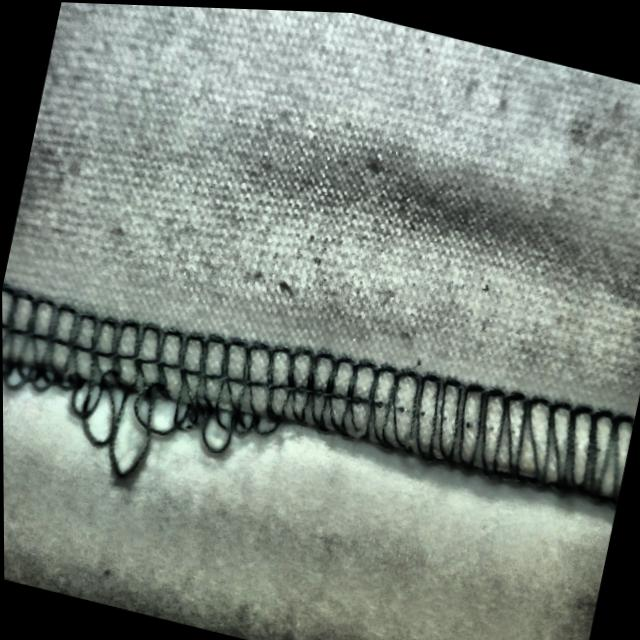Stitch: (2, 274, 294, 508)
